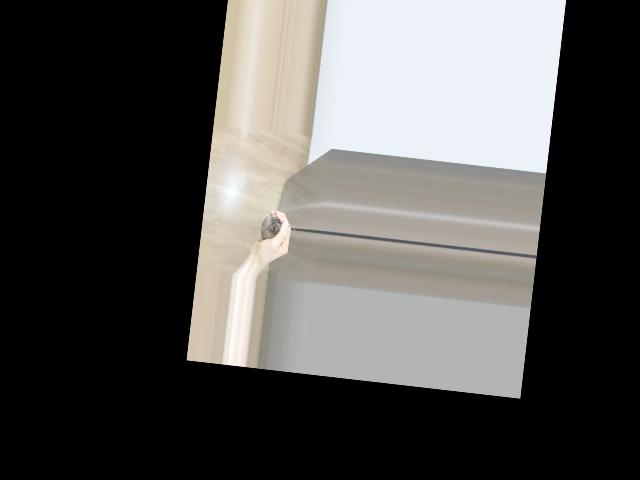beet: (259, 212, 301, 244)
